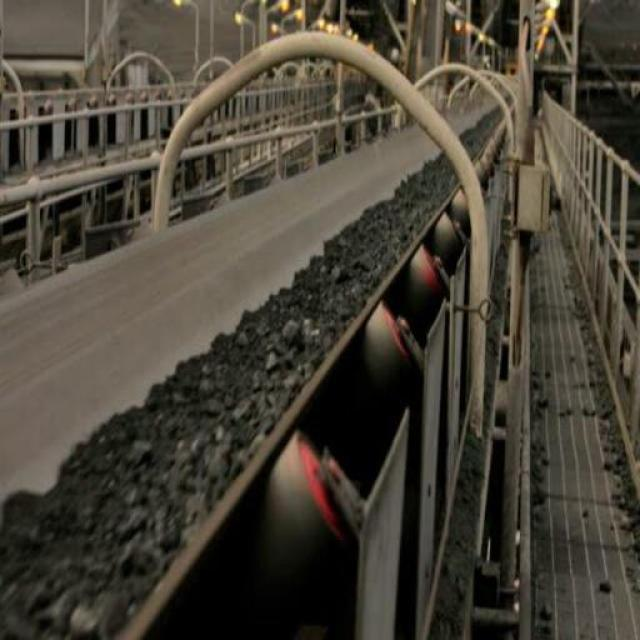conveyor: (0, 78, 524, 640)
